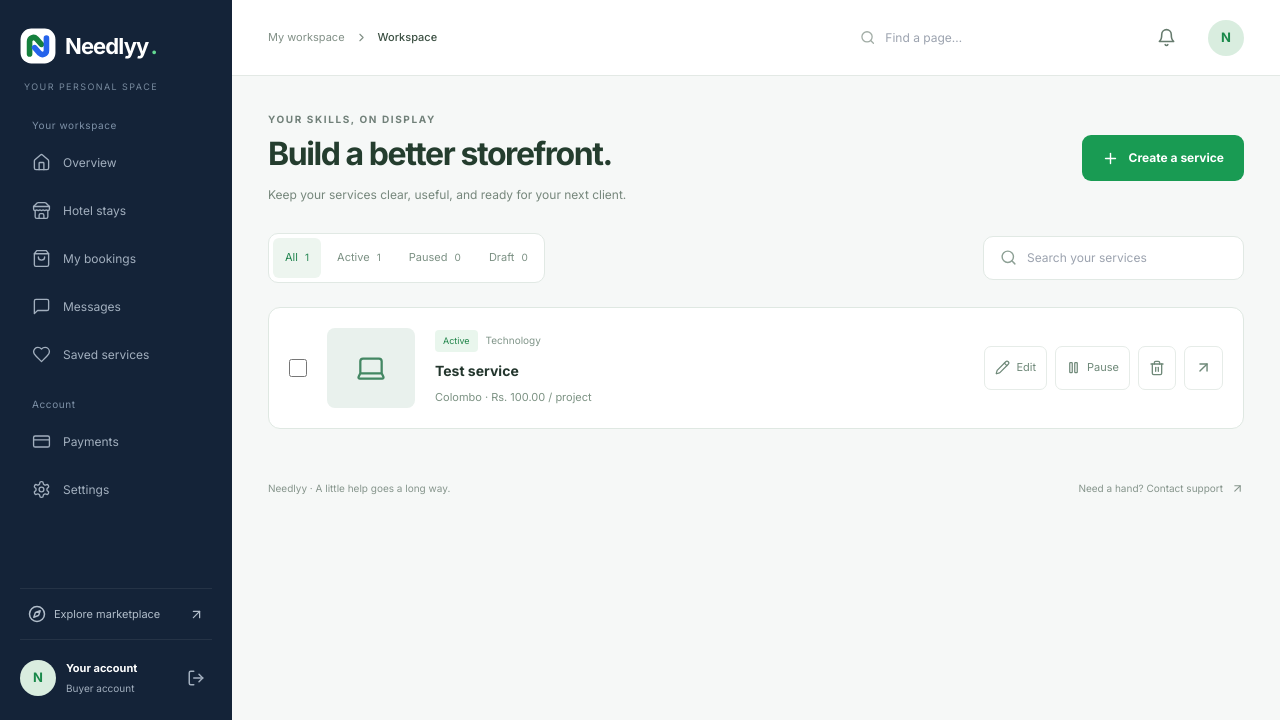
Test: service editing › persists a service image link with the actual service record
The width and height of the screenshot is (1280, 720).
Click the button "Edit" at (1016, 368), box [984, 346, 1047, 390]
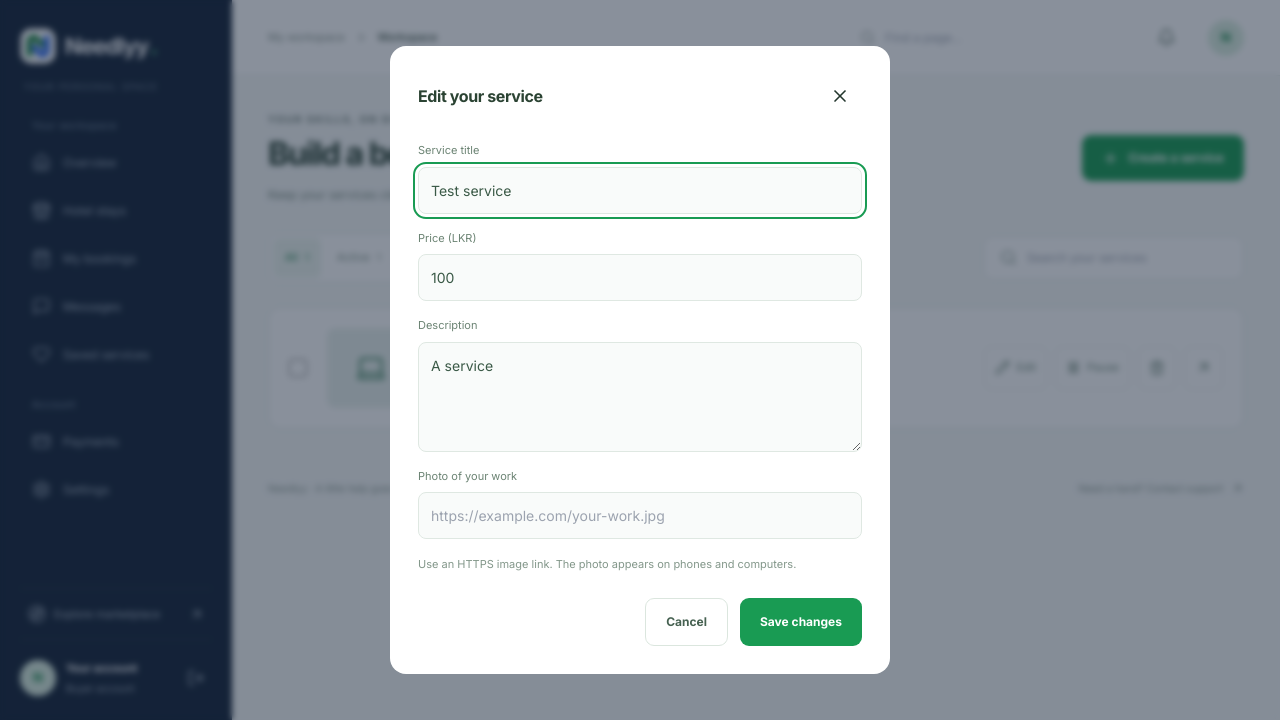
Type "https://example.com/work.jpg" into the field labelled "Photo of your work" at (640, 516), box [418, 492, 862, 539]
(page scrolled)
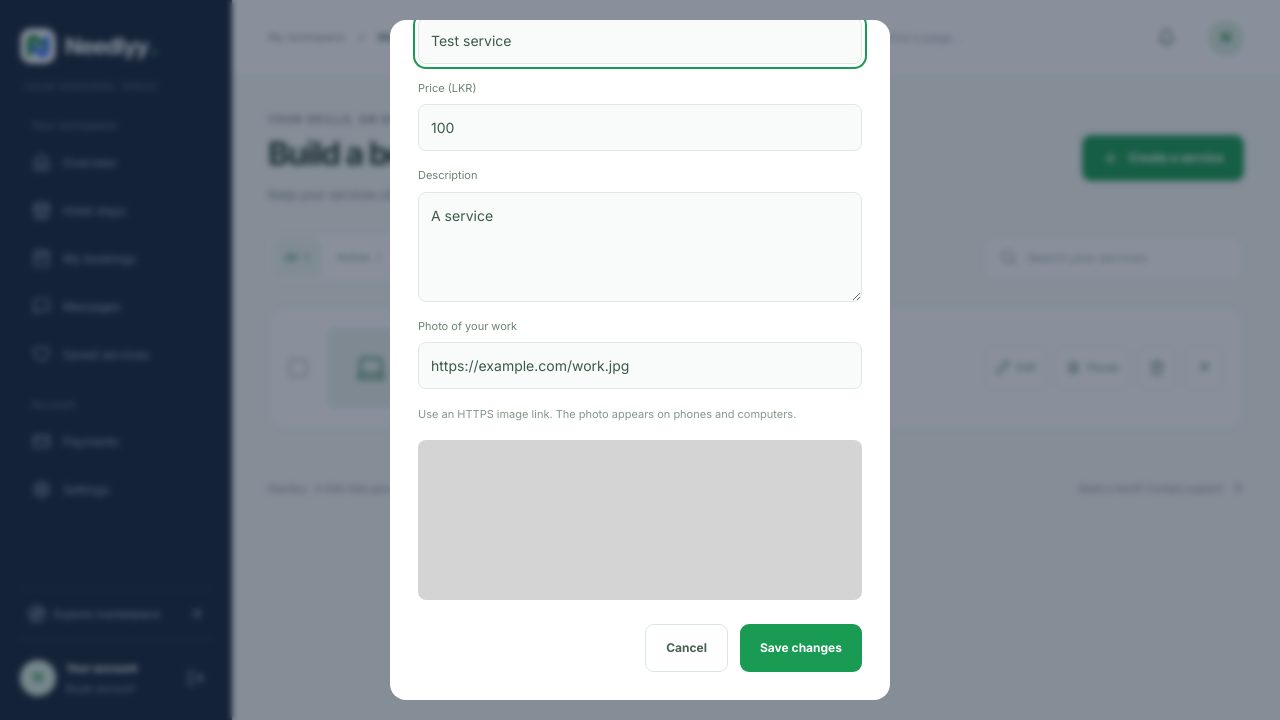
Click the button "Save changes" at (801, 648), box [740, 624, 862, 672]
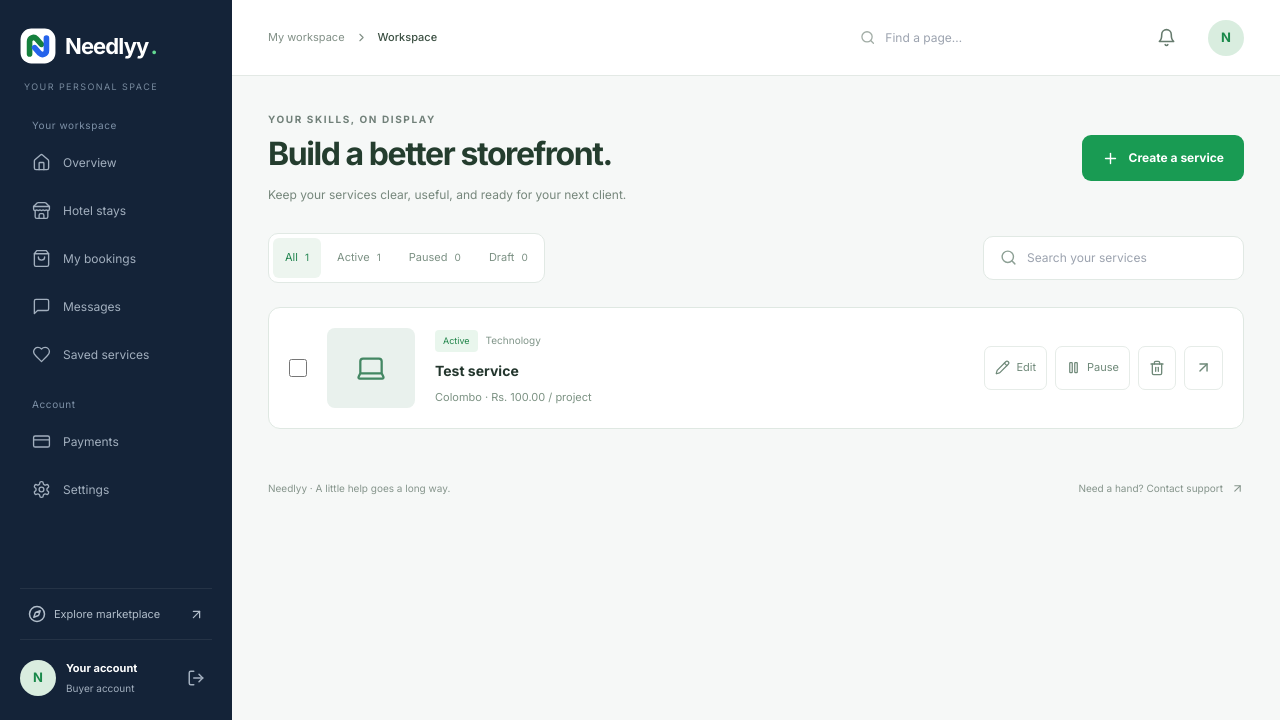
Now the dialog is gone
